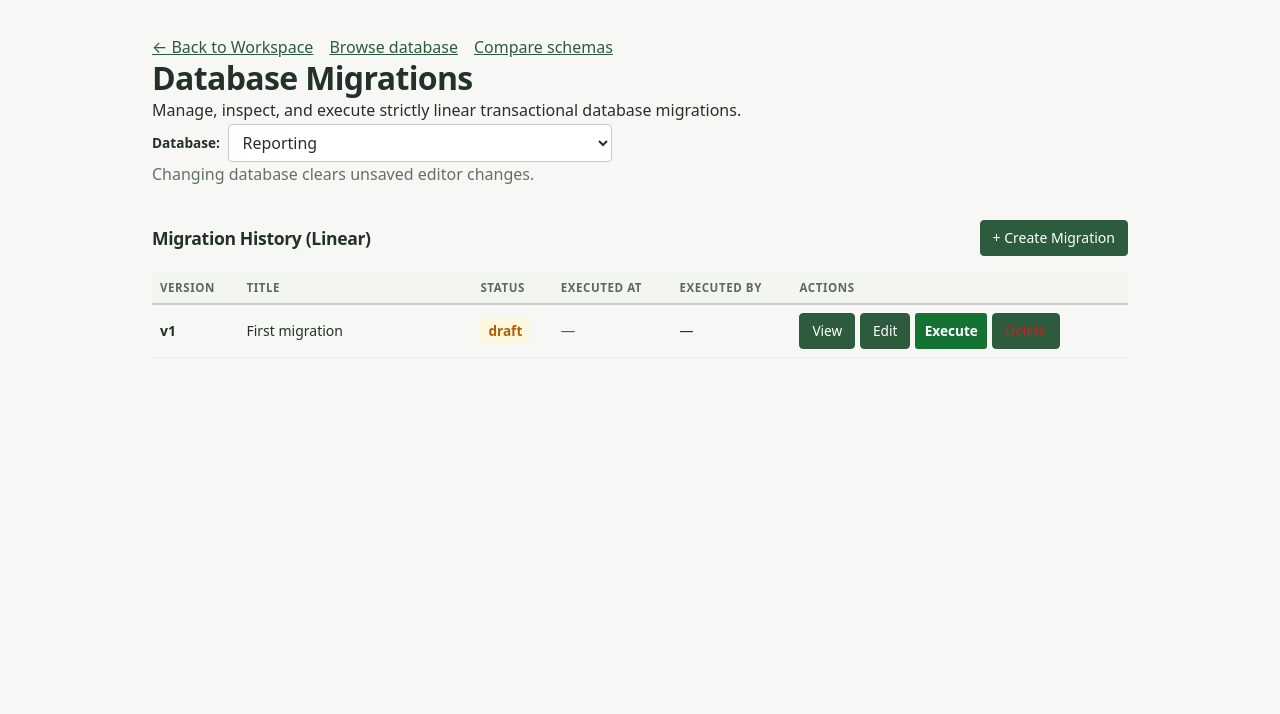
Test: analyzes execution plan in editor and details view
Expected: the text "First migration" is shown, left=238, top=304, right=472, bottom=358
Note: Details view analyze
Click the button "View" at (827, 331), box left=800, top=313, right=855, bottom=349
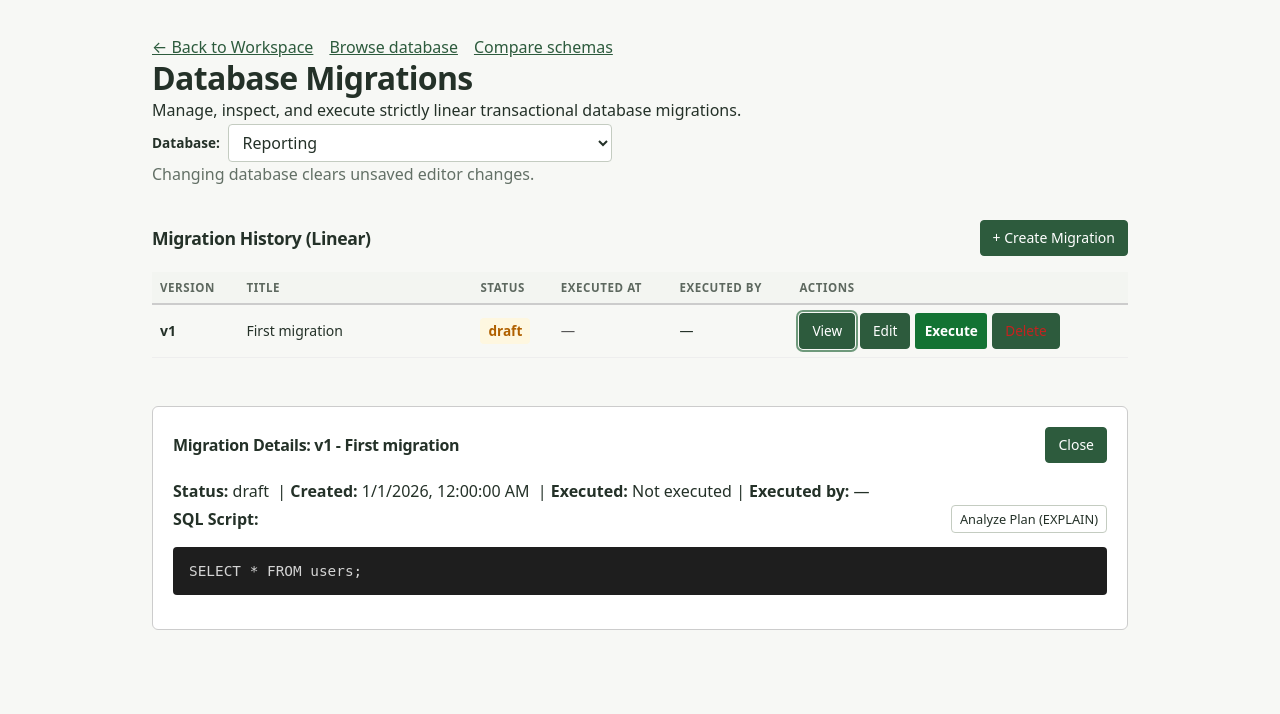
Click the button "Analyze Plan (EXPLAIN)" at (1029, 519), box left=951, top=505, right=1107, bottom=533
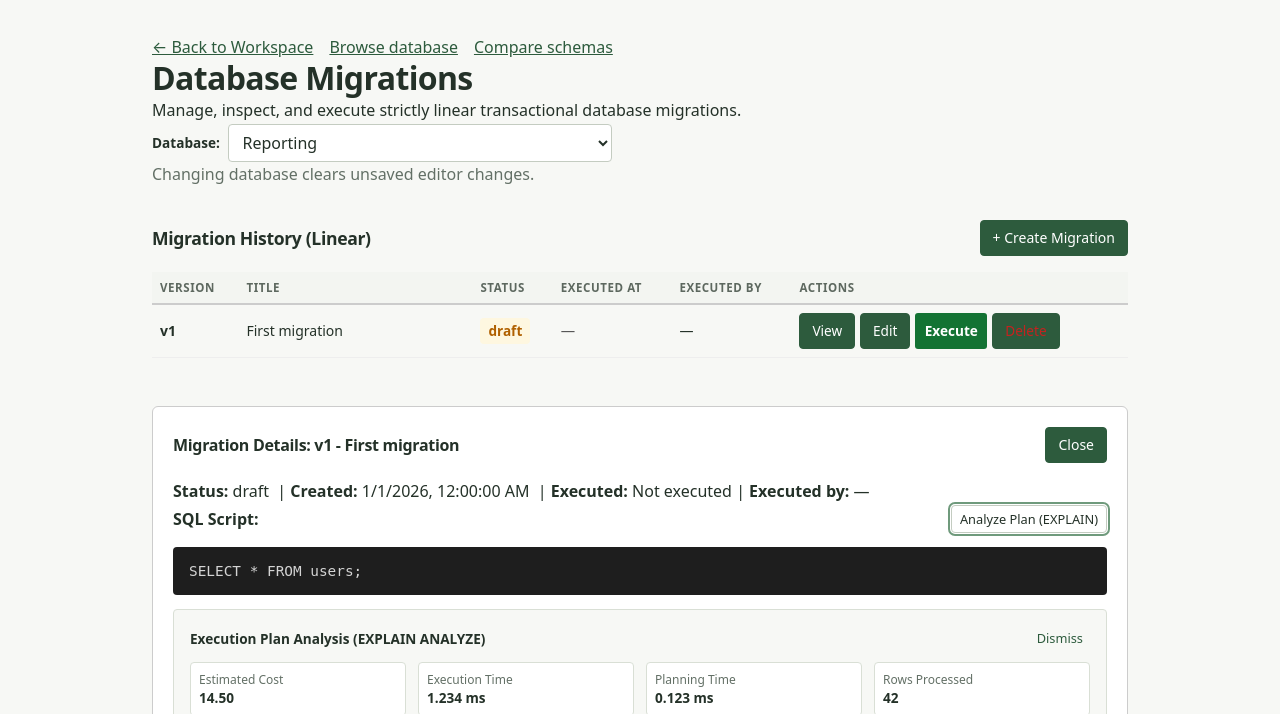
Now the text "Execution Plan Analysis (EXPLAIN ANALYZE)" is shown, box left=190, top=629, right=486, bottom=648
Now the text "14.50" is shown, box left=199, top=688, right=234, bottom=707
Note: Close details
Click the button "Close" at (1076, 445), box left=1046, top=427, right=1107, bottom=463
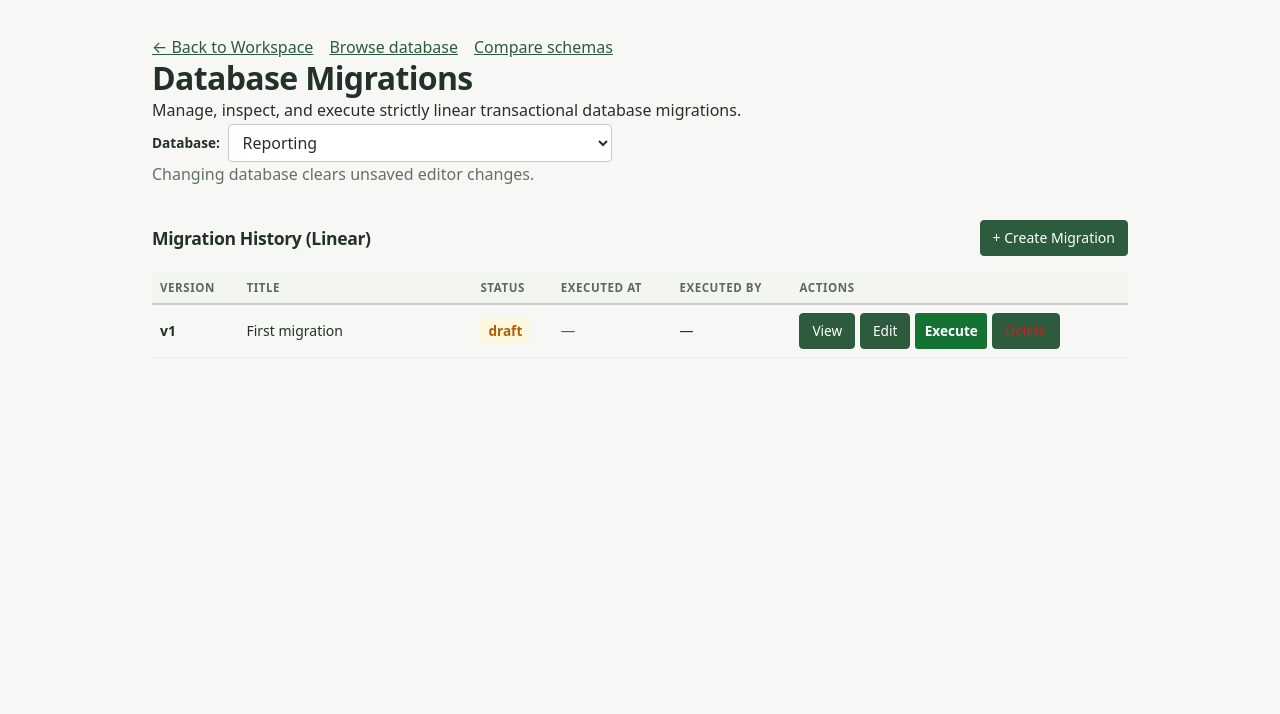
Note: Open editor and analyze
Click the button "+ Create Migration" at (1054, 238), box left=980, top=220, right=1128, bottom=256
(page scrolled)
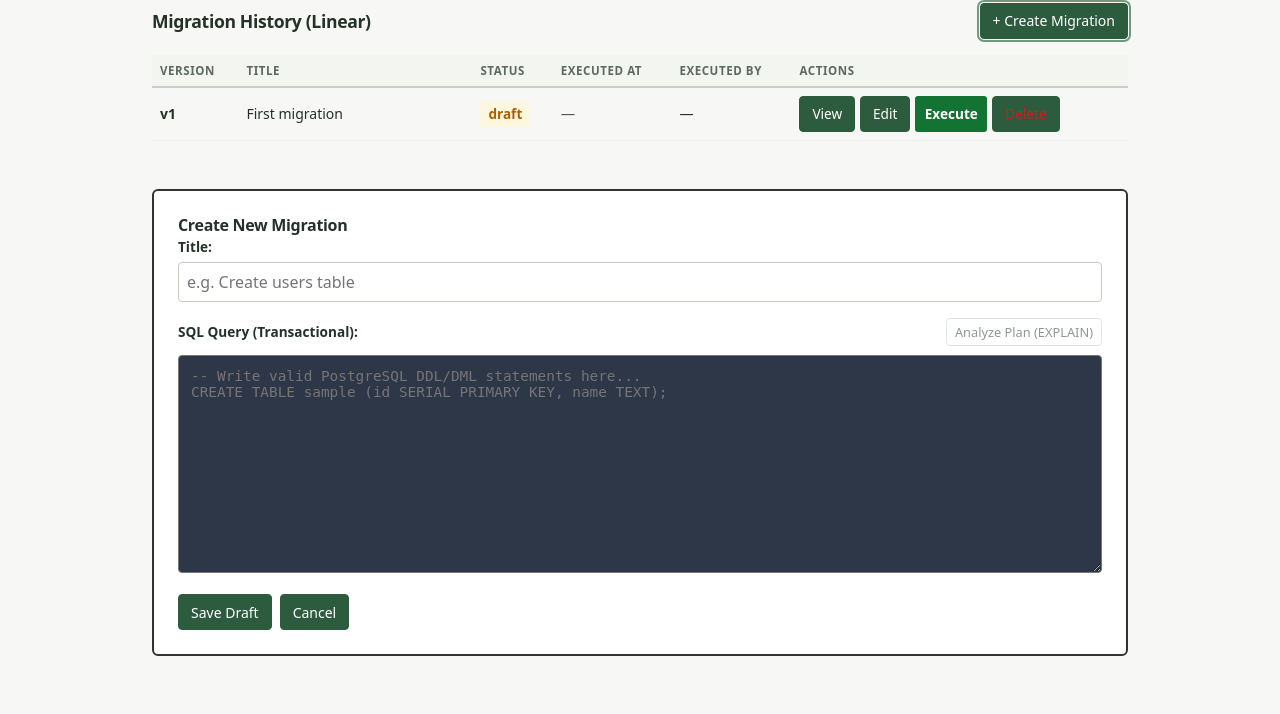
Type "SELECT 1;" into the text box labelled "SQL Query (Transactional):" at (640, 464), box left=178, top=355, right=1102, bottom=573
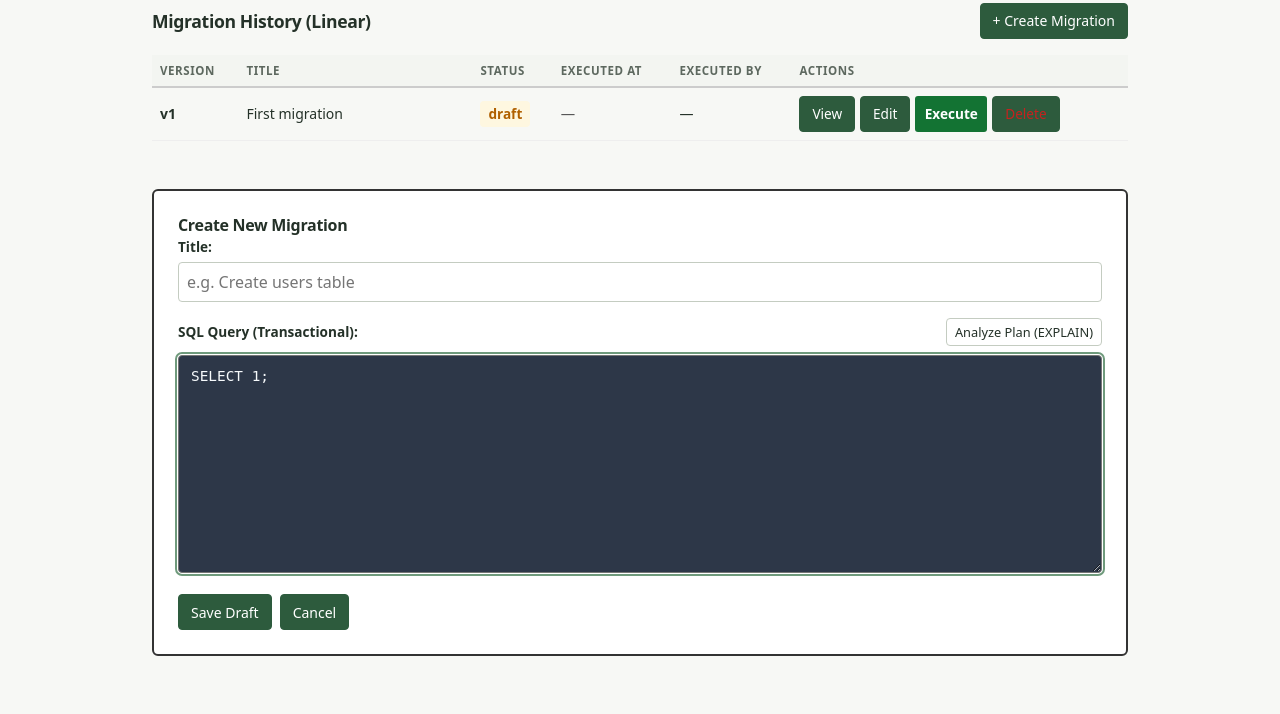
Click the button "Analyze Plan (EXPLAIN)" at (1024, 332), box left=946, top=318, right=1102, bottom=346
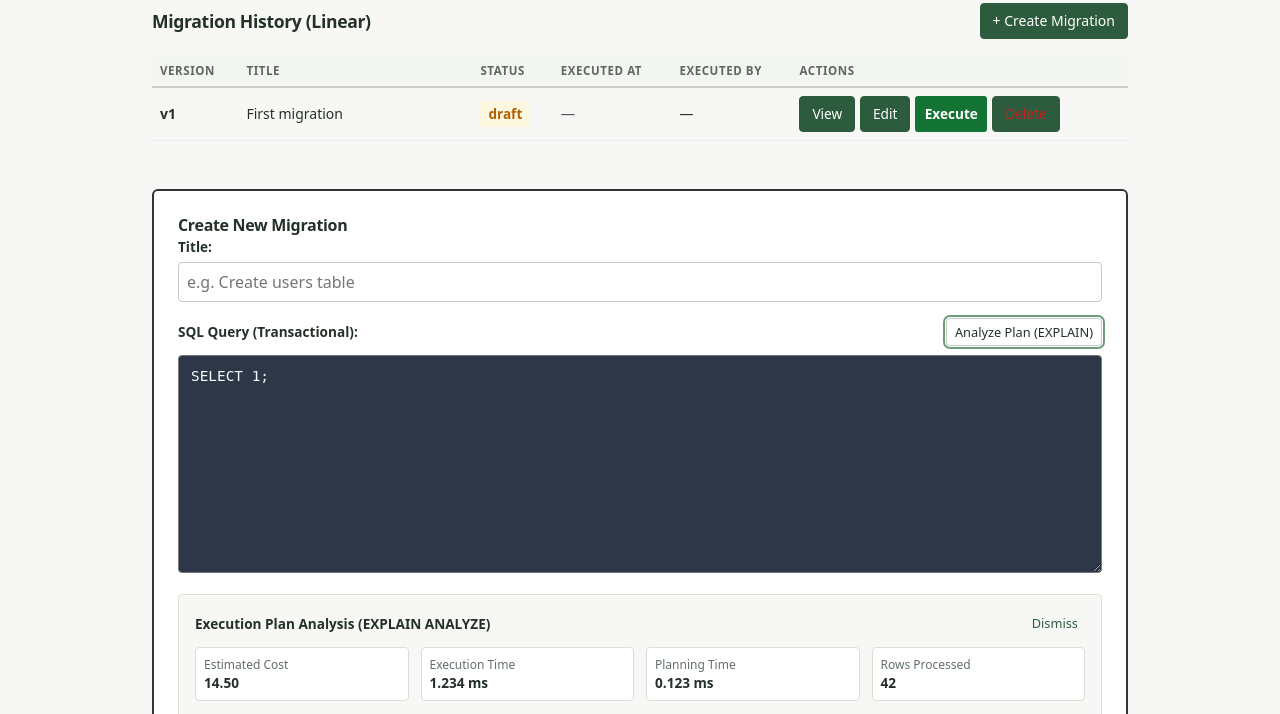
Now the text "1.234 ms" is shown, box left=430, top=673, right=488, bottom=692
